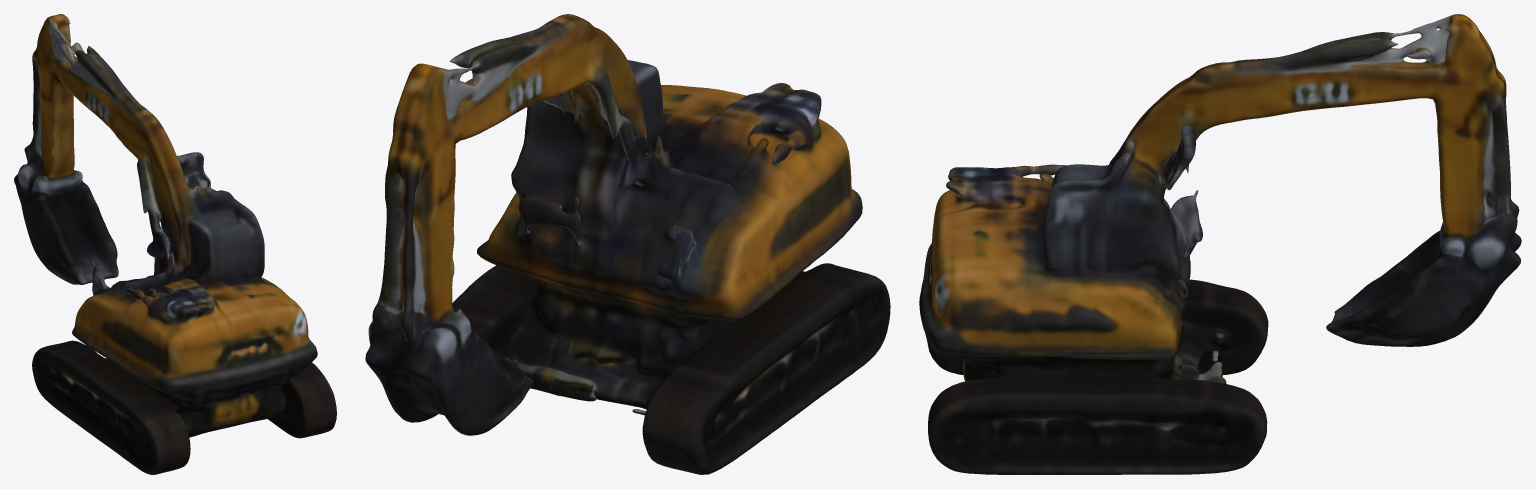
Rendered from sample_hitachi.fbx.
The picture shows the model from 3 angles, left to right: view 1: azimuth 30°, elevation 25°; view 2: azimuth 150°, elevation 25°; view 3: azimuth 270°, elevation 25°; orthographic projection. The views are drawn at different scales.
Visible parts, largest first — view 1: node_f681f755_c5be_4820_804b_66a0ce196b4e_mesh0; view 2: node_f681f755_c5be_4820_804b_66a0ce196b4e_mesh0; view 3: node_f681f755_c5be_4820_804b_66a0ce196b4e_mesh0.
Boxes of the visible parts, <box> form: node_f681f755_c5be_4820_804b_66a0ce196b4e_mesh0: <box>14,14,336,474</box>; node_f681f755_c5be_4820_804b_66a0ce196b4e_mesh0: <box>365,14,890,474</box>; node_f681f755_c5be_4820_804b_66a0ce196b4e_mesh0: <box>919,14,1521,474</box>.
Bounding box in the file's own units: 23.5 × 36 × 48.67.
1 material, 1 textured.
